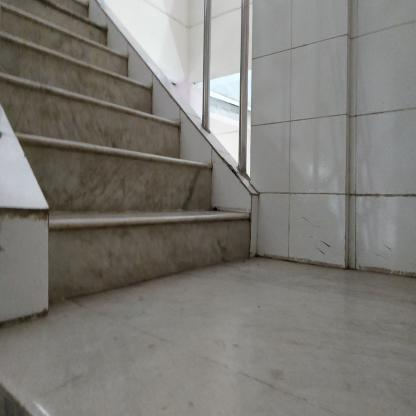stairs: (54, 59, 127, 321)
